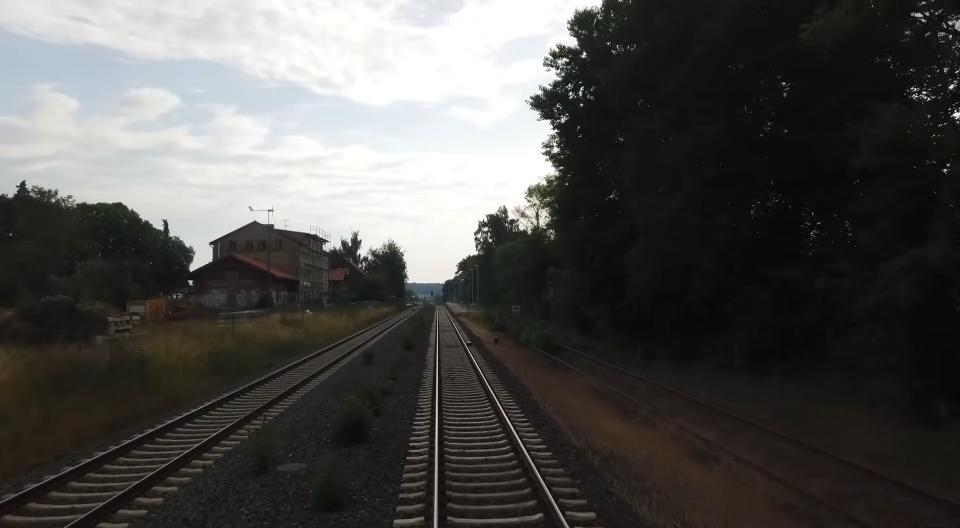Plant: (463, 318, 824, 528), (333, 395, 372, 446), (312, 469, 347, 512), (363, 385, 386, 413), (402, 337, 414, 350), (363, 351, 373, 364)
